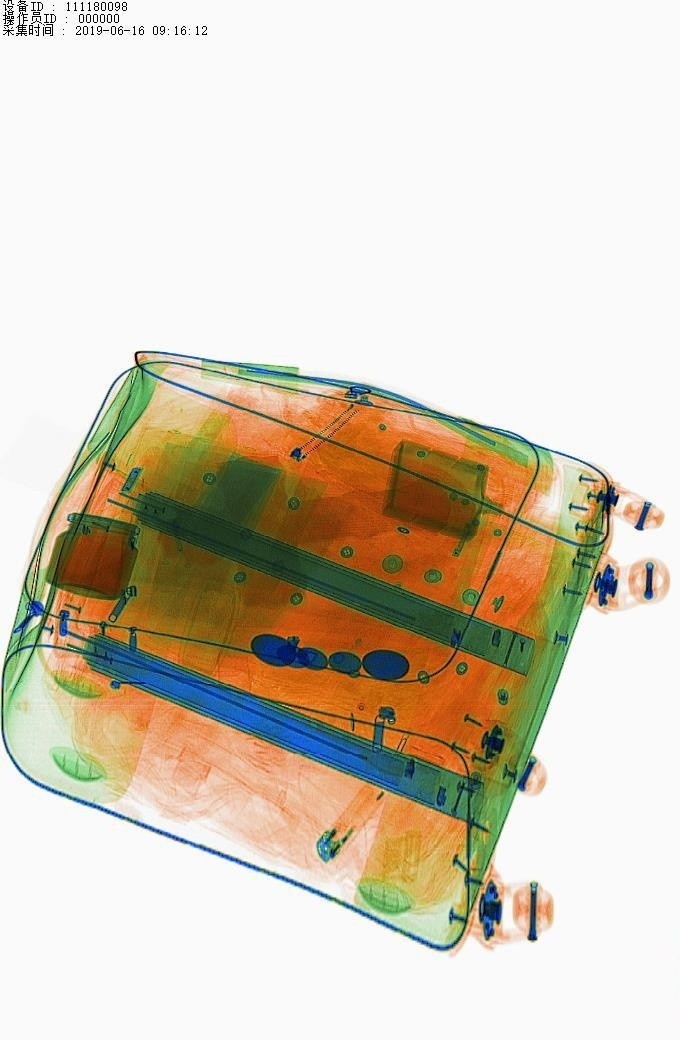NonmetallicFire: (310, 764, 394, 872)
